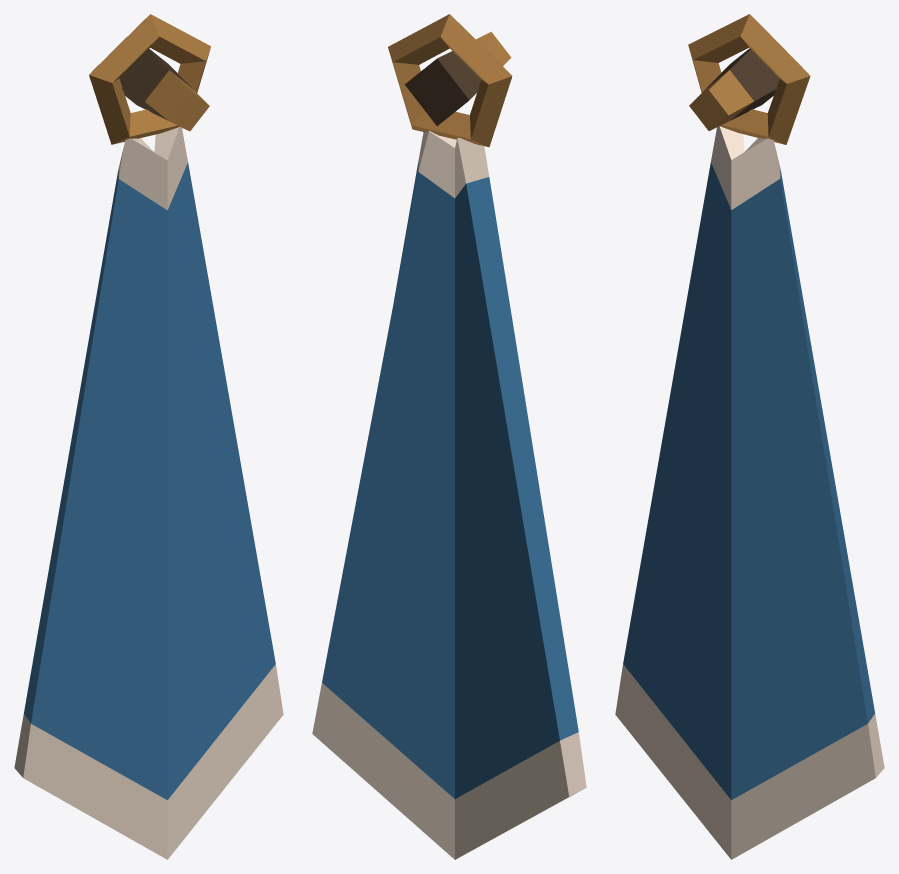
Rendered from empire-banner-anchor-empire.glb.
3 views of the same model, side by side, from view 1: azimuth 30°, elevation 25°; view 2: azimuth 150°, elevation 25°; view 3: azimuth 330°, elevation 25° (orthographic).
Visible parts, largest first — view 1: SM_Banner_Anchor_Empire; view 2: SM_Banner_Anchor_Empire; view 3: SM_Banner_Anchor_Empire.
Part boxes in pixels (left/top/right/bottom): SM_Banner_Anchor_Empire: left=14, top=14, right=283, bottom=859; SM_Banner_Anchor_Empire: left=312, top=14, right=586, bottom=859; SM_Banner_Anchor_Empire: left=615, top=14, right=884, bottom=859.
Bounding box in the file's own units: 0.9095 × 2.78 × 0.3224.
